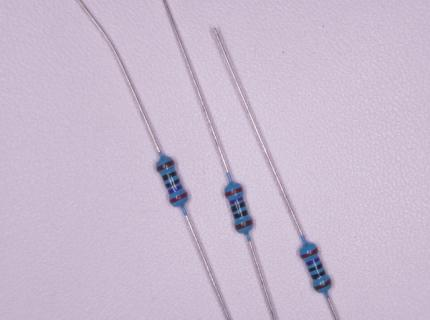Red band: (169, 192, 189, 204), (300, 247, 318, 259), (224, 187, 243, 198)
Violet band: (168, 184, 183, 195), (229, 196, 244, 205), (306, 257, 321, 266)
